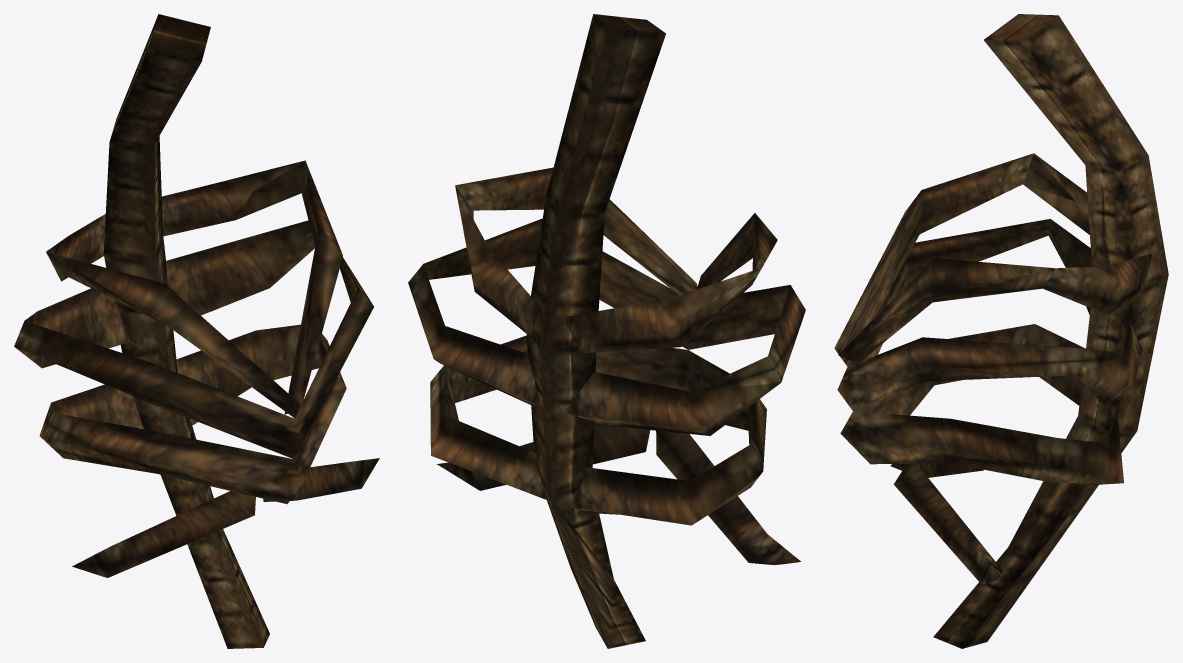
Rendered from bones-01.obj.
The picture shows the model from 3 angles, left to right: view 1: azimuth 30°, elevation 25°; view 2: azimuth 150°, elevation 25°; view 3: azimuth 270°, elevation 25°; orthographic projection. The views are drawn at different scales.
Parts seen in each view (by area): view 1: (null); view 2: (null); view 3: (null).
Boxes of the visible parts, x1,y1,x2,y2 form: (null): (14, 14, 379, 648); (null): (408, 14, 805, 648); (null): (834, 14, 1168, 648).
Size of the model in its own units: 1.11 by 1.87 by 0.9356.
